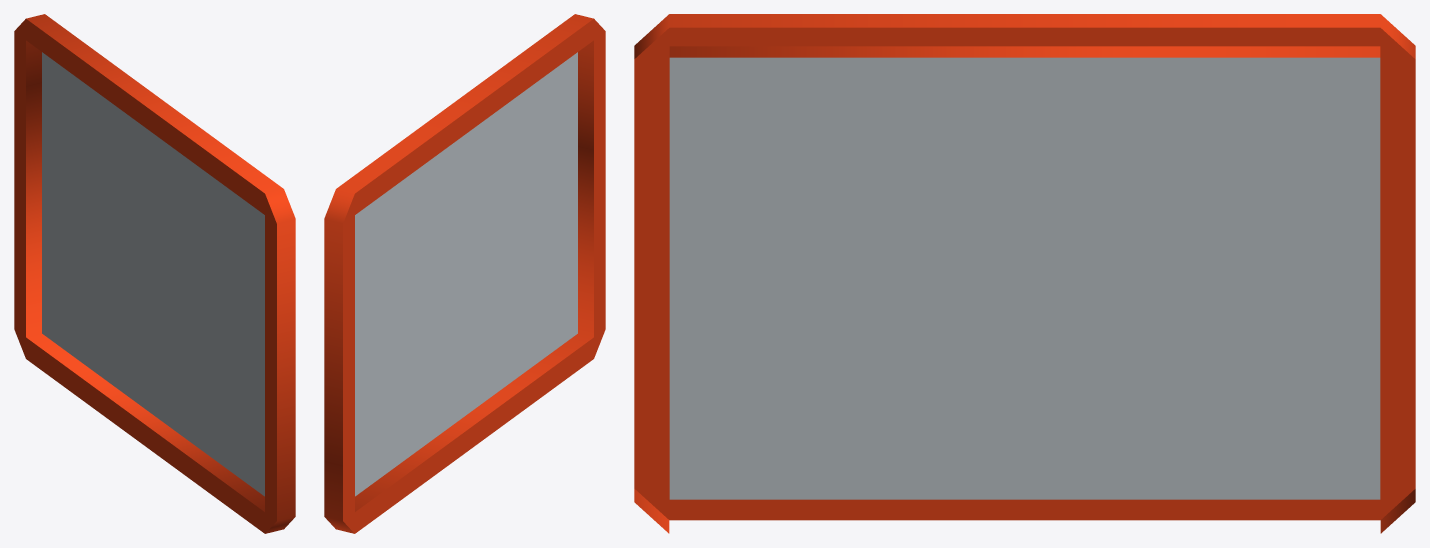
Rendered from toilet4.FBX.
3 renders of one model, left to right at view 1: azimuth 30°, elevation 25°; view 2: azimuth 150°, elevation 25°; view 3: azimuth 270°, elevation 25°, orthographic. The views are drawn at different scales.
Parts seen in each view (by area): view 1: Box1200; view 2: Box1200; view 3: Box1200.
Boxes of the visible parts, bbox=[...] form: Box1200: bbox=[14, 14, 295, 533]; Box1200: bbox=[324, 14, 605, 533]; Box1200: bbox=[634, 14, 1415, 533].
Bounding box in the file's own units: 0.0747 × 1.28 × 1.79.
